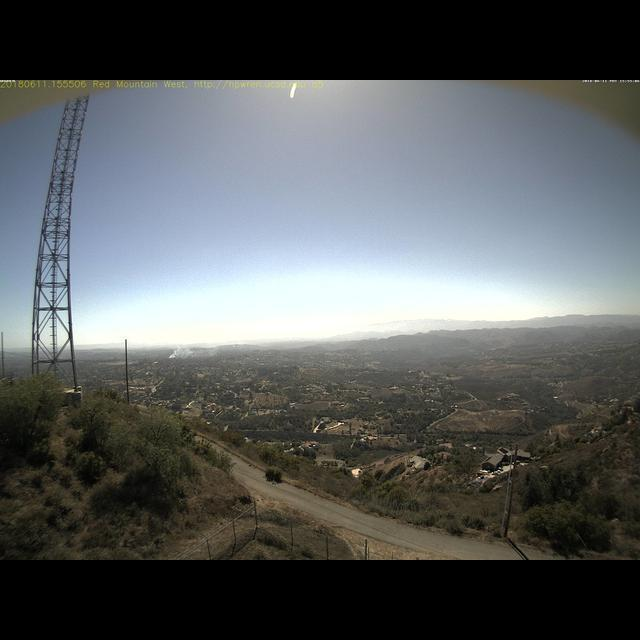Smoke: (167, 338, 195, 358)
